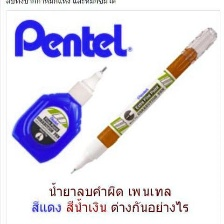correction_fluid: (68, 26, 219, 177), (10, 62, 109, 165)
